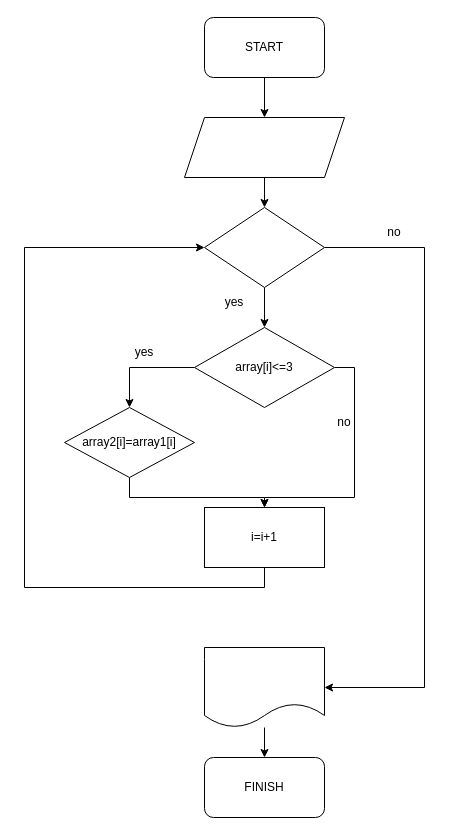
The diagram is 450 pixels wide and 835 high, and some of its shapes have lost their labels. Here are the shapes that lost their labels. From the top down, the centre of each, then its label:
At point 264,147: "array1[size] array2[array1.length] int i=1 int i=0".
At point 264,247: "i<size?".
At point 264,687: "array2".
